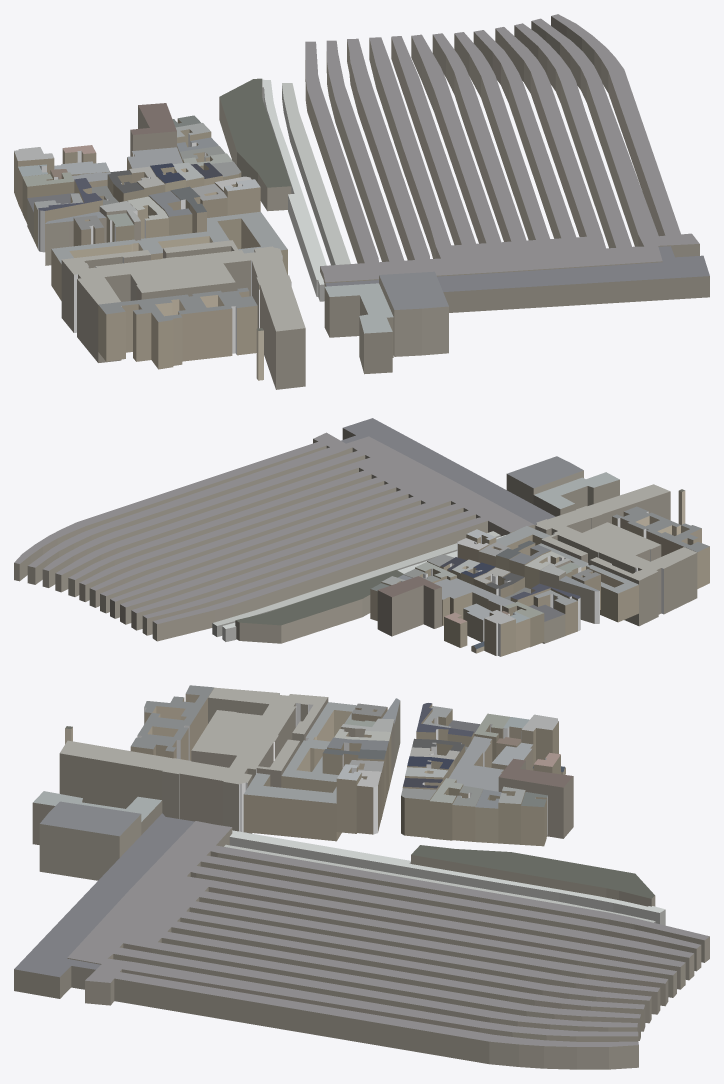
3 renders of one model, top to bottom at view 1: azimuth 30°, elevation 25°; view 2: azimuth 150°, elevation 25°; view 3: azimuth 270°, elevation 25°, orthographic. The views are drawn at different scales.
Parts seen in each view (by area): view 1: tuile; view 2: tuile; view 3: tuile.
Part boxes in pixels (x1,y1,x2,y2): tuile: [14, 14, 709, 389]; tuile: [14, 418, 709, 656]; tuile: [14, 685, 709, 1069].
Size of the model in its own units: 407 by 44.86 by 356.
